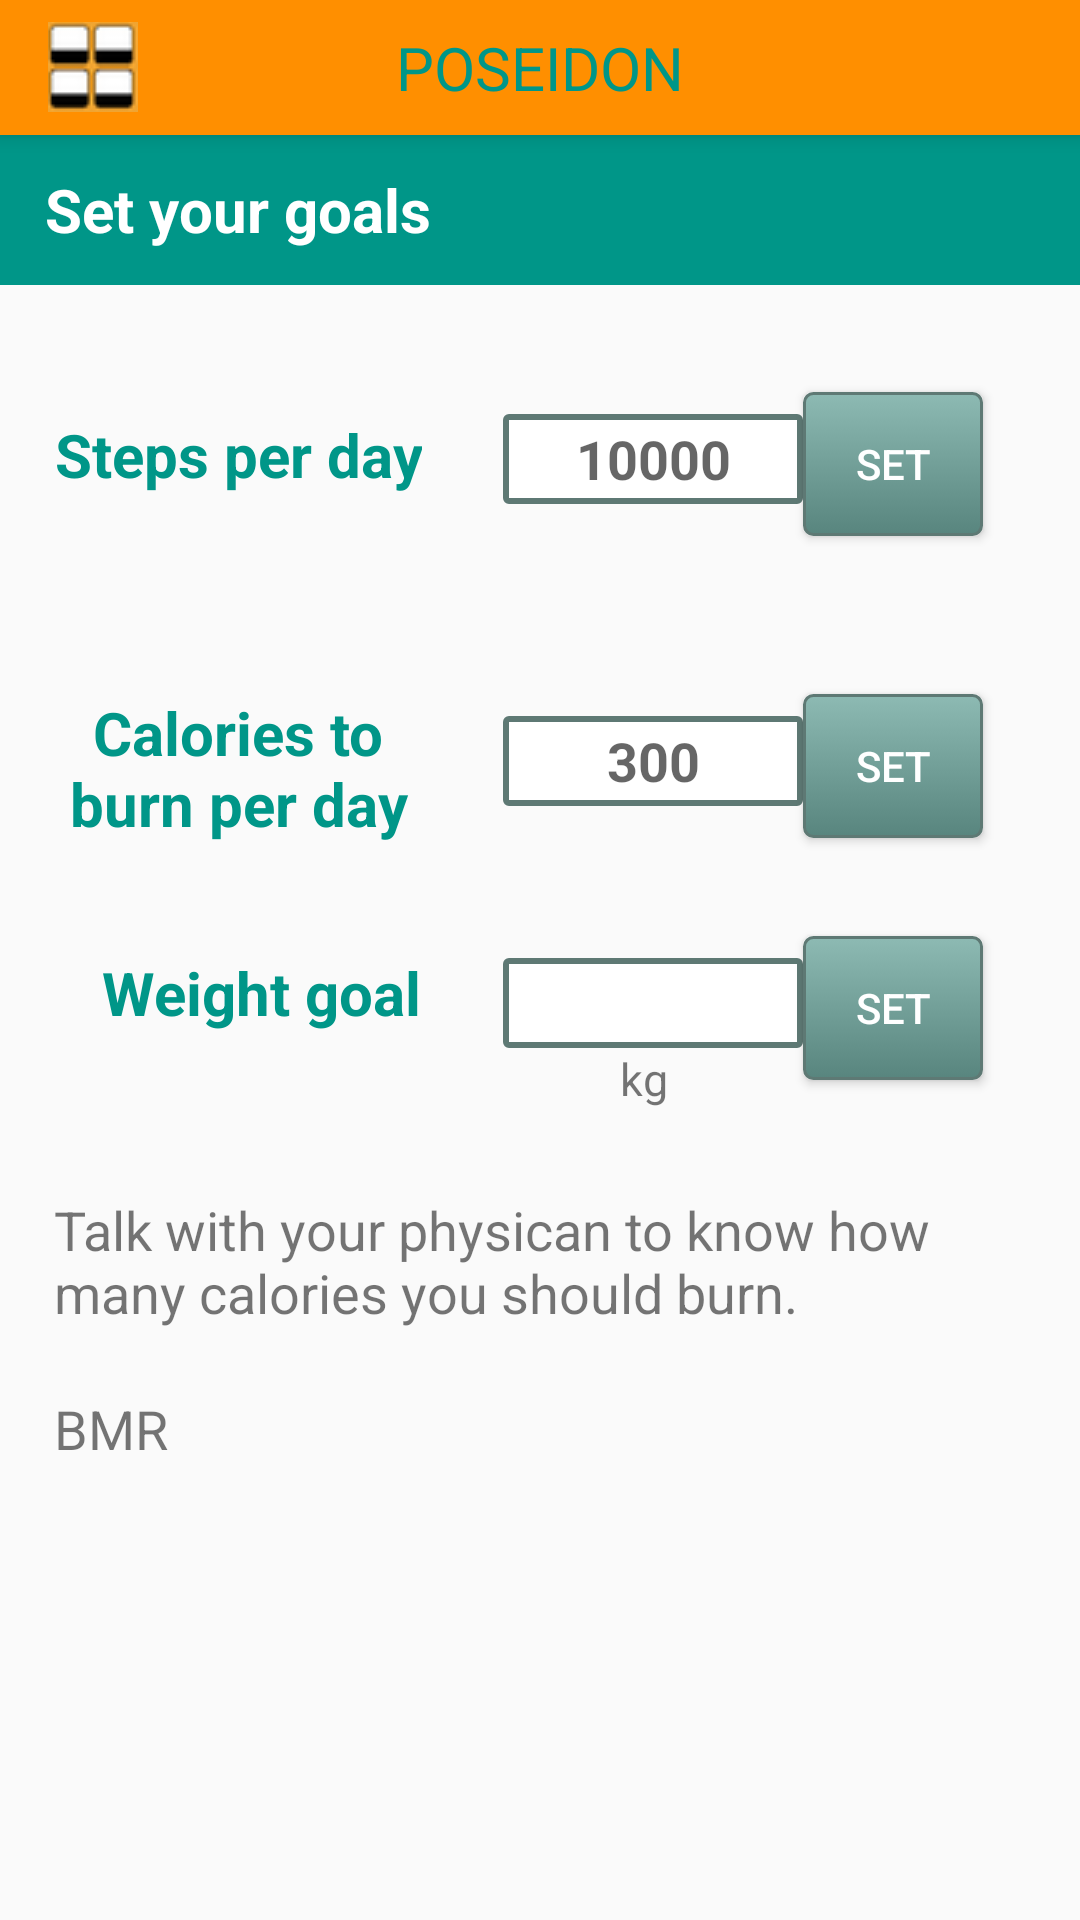

Locate icon controls on the screen. Image size 1080px x 1920px, boxes as (x1, y1, x2, y2).
homebutton: (48, 22, 138, 112)
